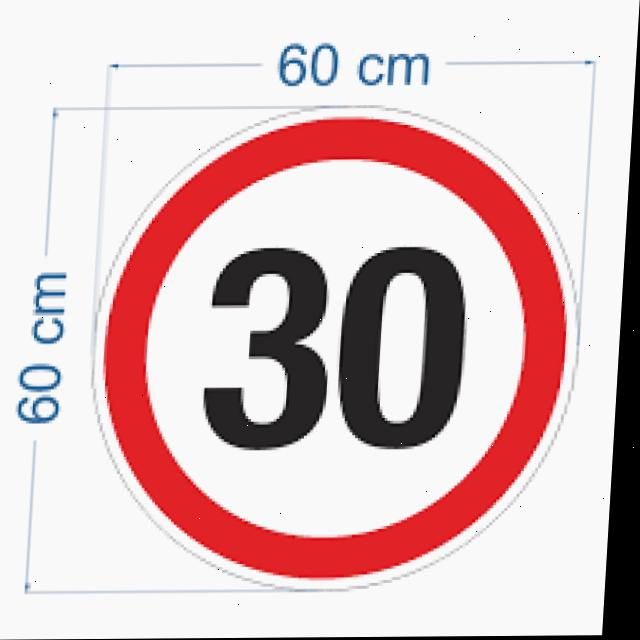Speed limit 30: (84, 103, 593, 592)
